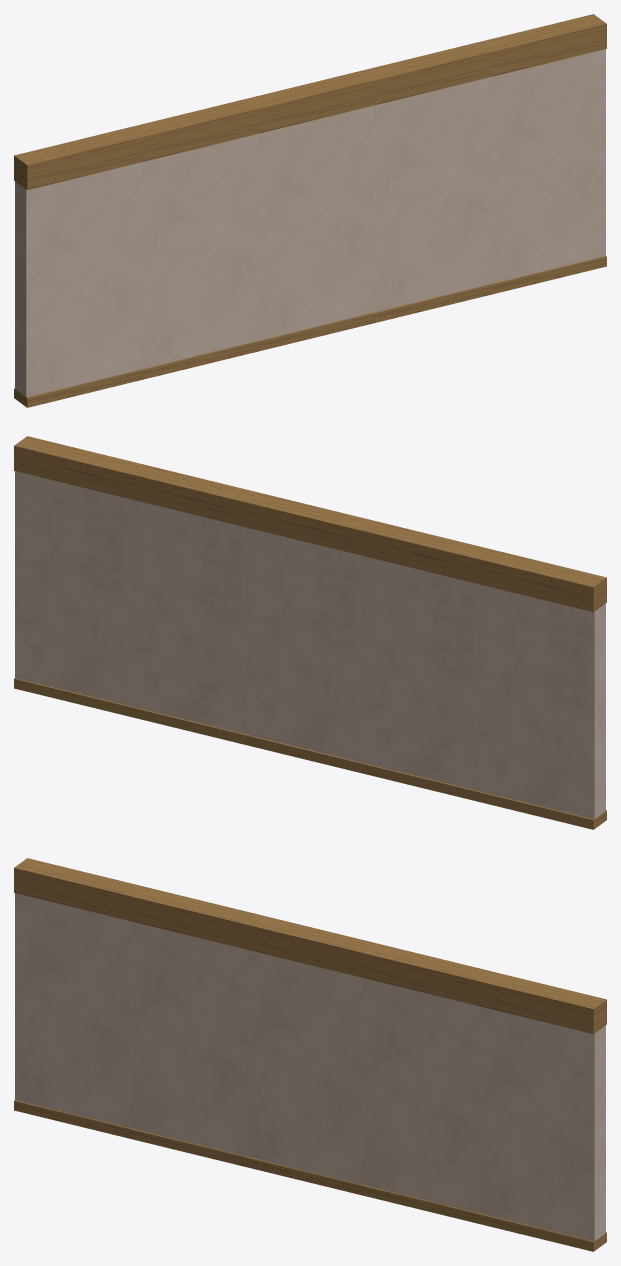
The model's file is wall_5.fbx.
3 views of the same model, one above another, from view 1: azimuth 30°, elevation 25°; view 2: azimuth 150°, elevation 25°; view 3: azimuth 330°, elevation 25° (orthographic).
Parts seen in each view (by area): view 1: Cube.242; view 2: Cube.242; view 3: Cube.242.
Part boxes in pixels (<box>): Cube.242: <box>14,14,606,407</box>; Cube.242: <box>14,436,606,829</box>; Cube.242: <box>14,858,606,1251</box>.
Bounding box in the file's own units: 500 × 200 × 20.
